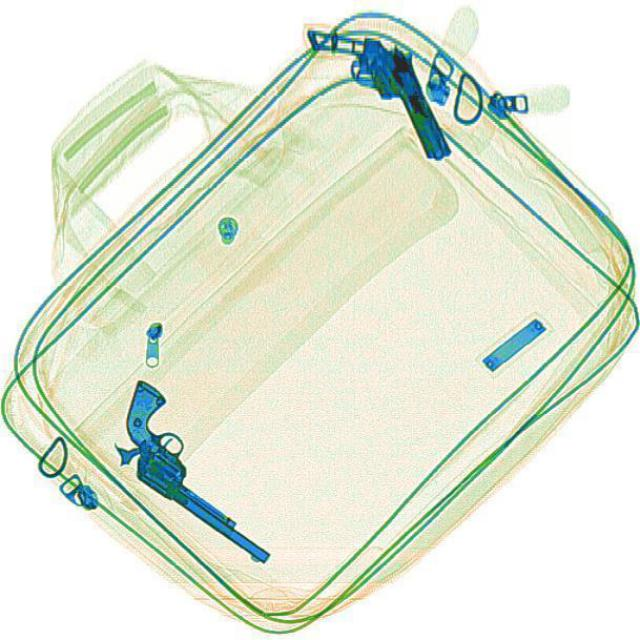Gun: (80, 374, 314, 570), (301, 1, 451, 183)
